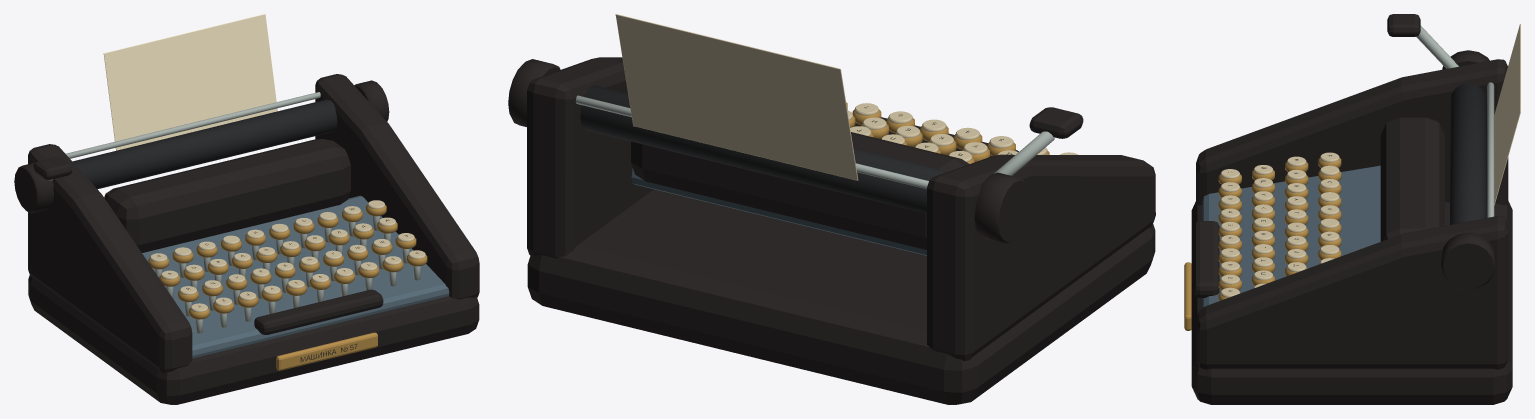
The model's file is Typewriter.fbx.
3 renders of one model, left to right at view 1: azimuth 30°, elevation 25°; view 2: azimuth 150°, elevation 25°; view 3: azimuth 270°, elevation 25°, orthographic. The views are drawn at different scales.
Visible parts, largest first — view 1: Art deco side cheek, Ribbon cover, Lower frame, Paper in carriage, Keyboard deck, Art deco side cheek.001, Rubber platen, Space bar, Paper guide, Nameplate 57, Platen knob, Platen knob.001 (+1 smaller); view 2: Lower frame, Art deco side cheek, Paper in carriage, Art deco side cheek.001, Ribbon cover, Rubber platen, Platen knob, Keyboard deck, Platen knob.001, Return handle grip, Paper guide, Carriage return arm; view 3: Art deco side cheek.001, Art deco side cheek, Lower frame, Keyboard deck, Ribbon cover, Rubber platen, Platen knob.001, Paper in carriage, Space bar, Paper guide, Return handle grip, Carriage return arm (+2 smaller).
Boxes of the visible parts, bbox=[...] form: Art deco side cheek: bbox=[28, 144, 192, 373]; Ribbon cover: bbox=[104, 139, 350, 252]; Lower frame: bbox=[28, 275, 479, 404]; Paper in carriage: bbox=[103, 14, 277, 150]; Keyboard deck: bbox=[142, 195, 449, 358]; Art deco side cheek.001: bbox=[315, 74, 479, 299]; Rubber platen: bbox=[72, 99, 337, 189]; Space bar: bbox=[254, 289, 383, 334]; Paper guide: bbox=[66, 92, 320, 158]; Nameplate 57: bbox=[276, 332, 377, 370]; Platen knob: bbox=[14, 162, 53, 213]; Platen knob.001: bbox=[354, 80, 389, 121]; Lower frame: bbox=[527, 189, 1155, 404]; Art deco side cheek: bbox=[927, 154, 1155, 360]; Paper in carriage: bbox=[615, 14, 858, 180]; Art deco side cheek.001: bbox=[527, 57, 653, 258]; Ribbon cover: bbox=[631, 132, 969, 249]; Rubber platen: bbox=[580, 85, 947, 213]; Platen knob: bbox=[974, 172, 1029, 243]; Keyboard deck: bbox=[631, 168, 926, 255]; Platen knob.001: bbox=[508, 59, 560, 126]; Return handle grip: bbox=[1029, 107, 1083, 138]; Paper guide: bbox=[575, 95, 928, 189]; Carriage return arm: bbox=[994, 131, 1054, 175]; Art deco side cheek.001: bbox=[1196, 216, 1508, 369]; Art deco side cheek: bbox=[1196, 59, 1508, 205]; Lower frame: bbox=[1191, 201, 1512, 404]; Keyboard deck: bbox=[1202, 165, 1380, 307]; Ribbon cover: bbox=[1380, 117, 1444, 241]; Rubber platen: bbox=[1450, 83, 1486, 224]; Platen knob.001: bbox=[1441, 232, 1495, 290]; Paper in carriage: bbox=[1494, 24, 1520, 205]; Space bar: bbox=[1194, 221, 1219, 297]; Paper guide: bbox=[1487, 82, 1494, 217]; Return handle grip: bbox=[1387, 14, 1420, 36]; Carriage return arm: bbox=[1416, 25, 1458, 68].
Bounding box in the file's own units: 0.4865 × 0.2947 × 0.3452.
